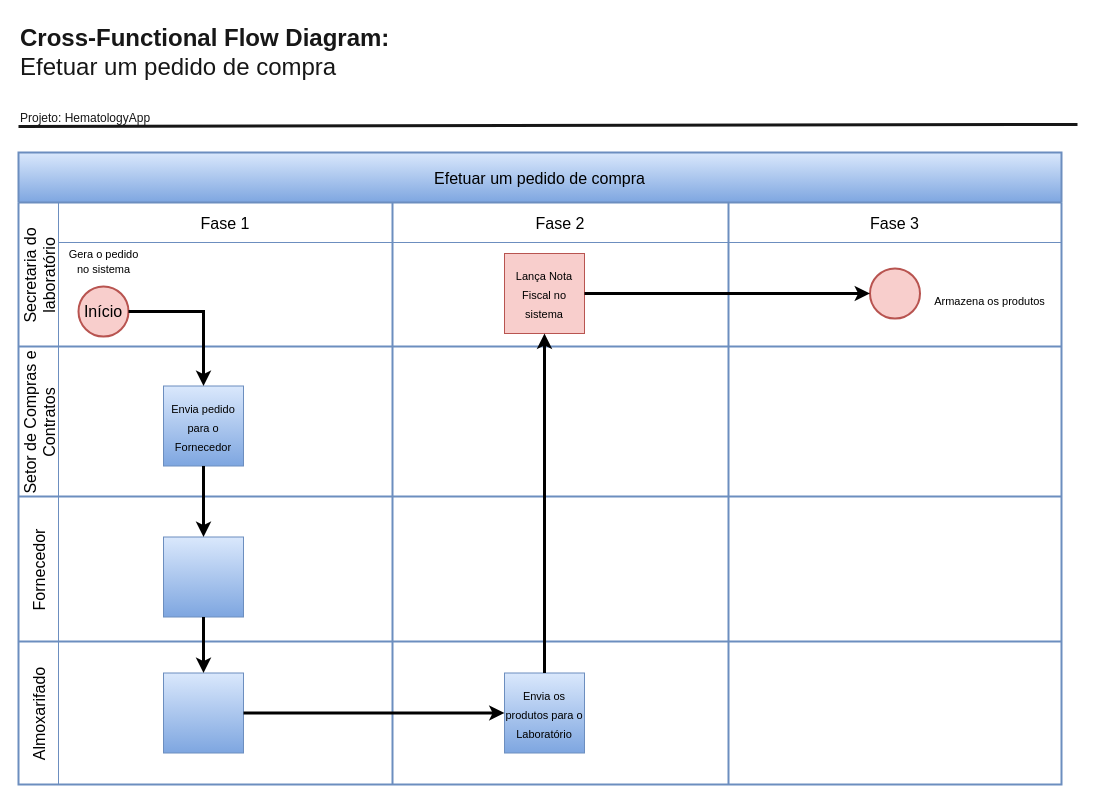
Image size: 1097x802. Some labels were removed from this diagram. The box of each missing label's shape, as (x1, y1, x2, y2) in pixels:
Conferi os produttos: (162, 672, 244, 753)
Envia os produtos: (162, 536, 244, 617)
Fim: (868, 267, 920, 319)
